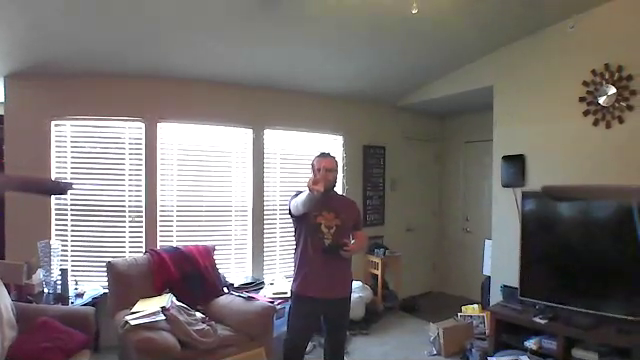peace: (303, 158, 330, 198)
